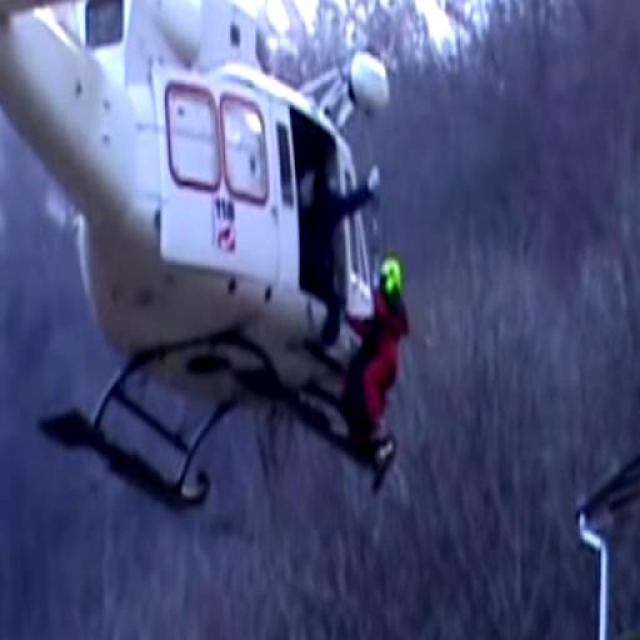drone: (0, 0, 371, 519)
